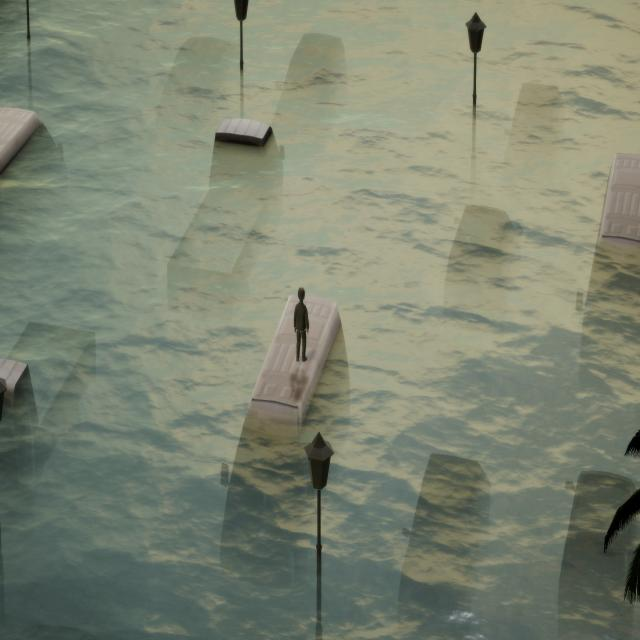Human: (288, 284, 314, 366)
